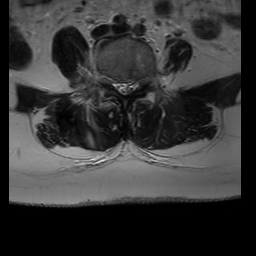CCS_severe_stenosis: (121, 72, 128, 102)
LFS_normal: (136, 71, 143, 95)
LLS_normal: (128, 73, 136, 98)
RFS_normal: (107, 69, 114, 94)
RLS_stenosis: (114, 72, 121, 99)
